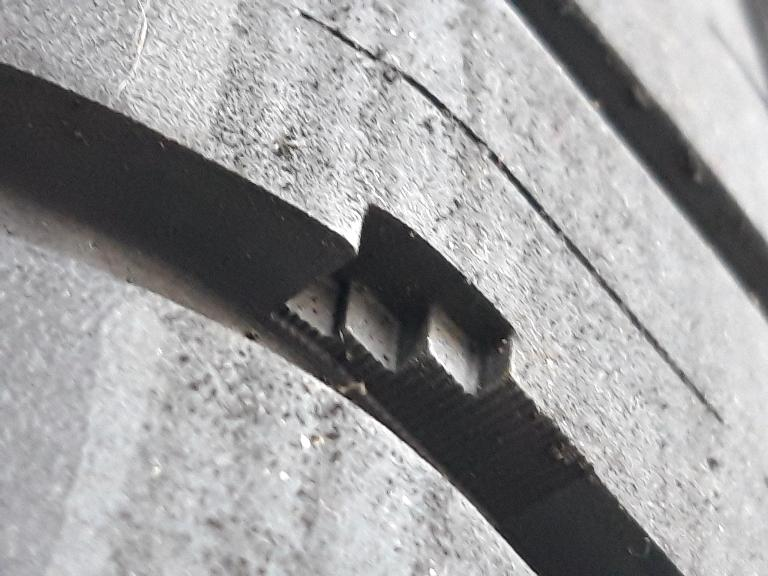temoin:75: (255, 188, 560, 484)
